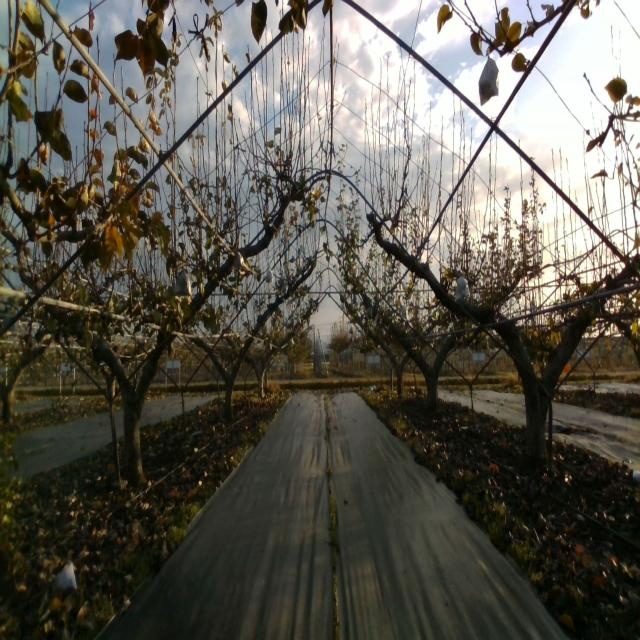pearbags: (478, 50, 498, 104), (174, 269, 192, 298), (453, 275, 470, 302), (233, 250, 244, 273)
